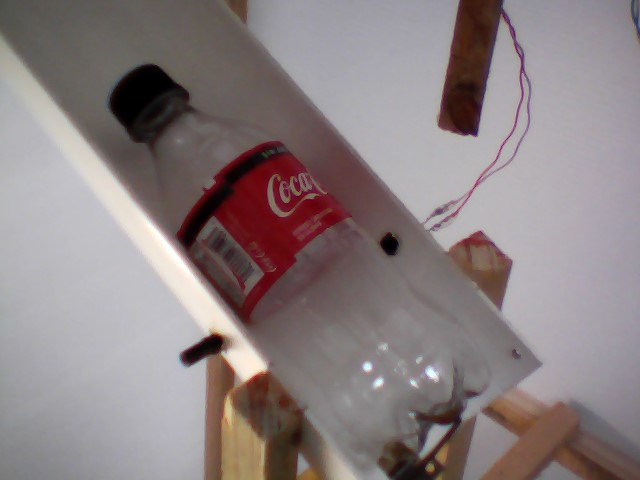plastico: (91, 54, 497, 480)
